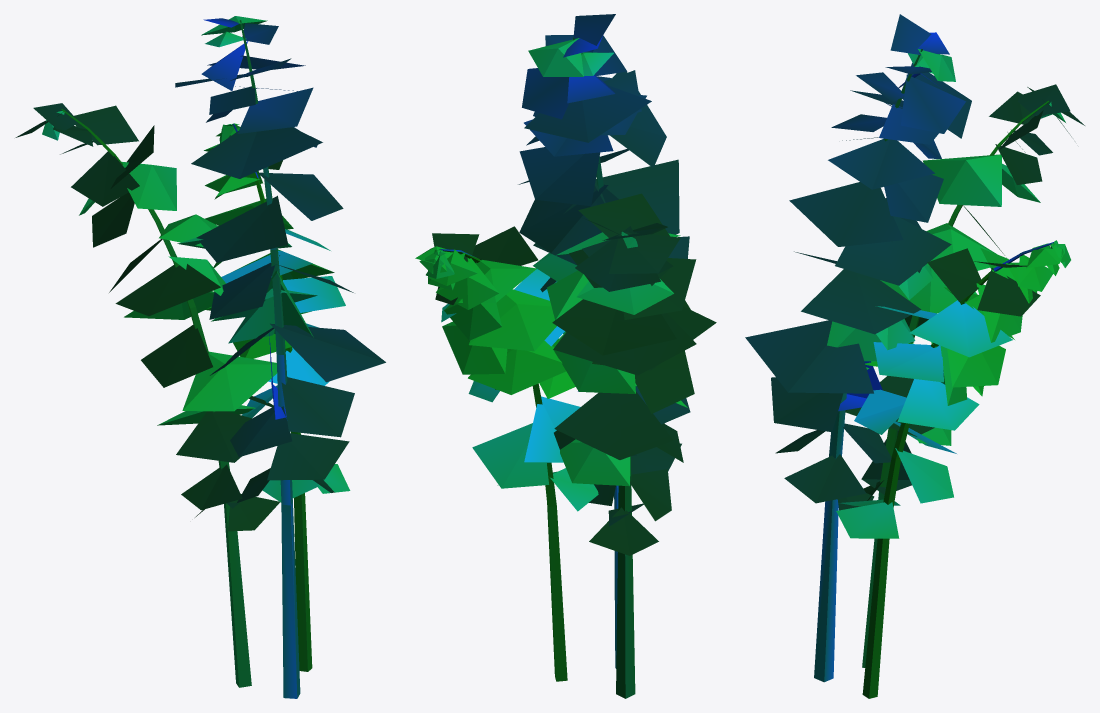
3 views of the same model, side by side, from view 1: azimuth 30°, elevation 25°; view 2: azimuth 150°, elevation 25°; view 3: azimuth 270°, elevation 25° (orthographic). The views are drawn at different scales.
Parts seen in each view (by area): view 1: 21; view 2: 21; view 3: 21.
Part boxes in pixels (x1=…): 21: x1=15, y1=16, x2=385, y2=698; 21: x1=415, y1=14, x2=716, y2=698; 21: x1=745, y1=14, x2=1084, y2=698.
Bounding box in the file's own units: 8.34 × 19.86 × 9.43.
